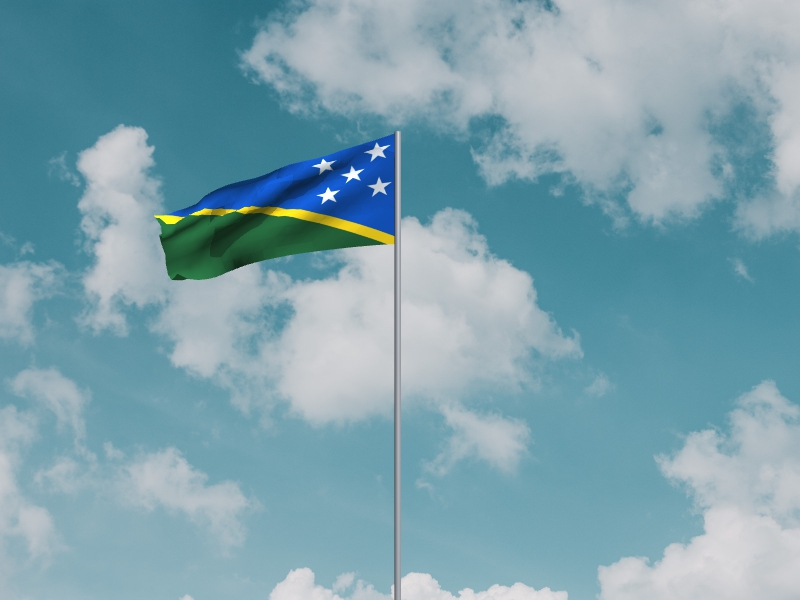sb: (154, 134, 395, 282)
